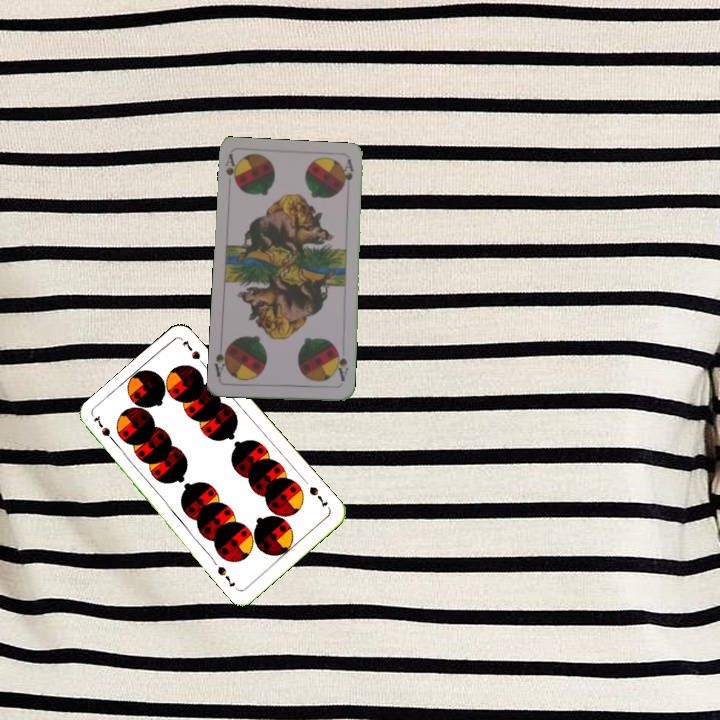S7: (89, 413, 120, 448), (305, 482, 331, 510)
SA: (331, 346, 351, 387), (221, 151, 241, 189)
